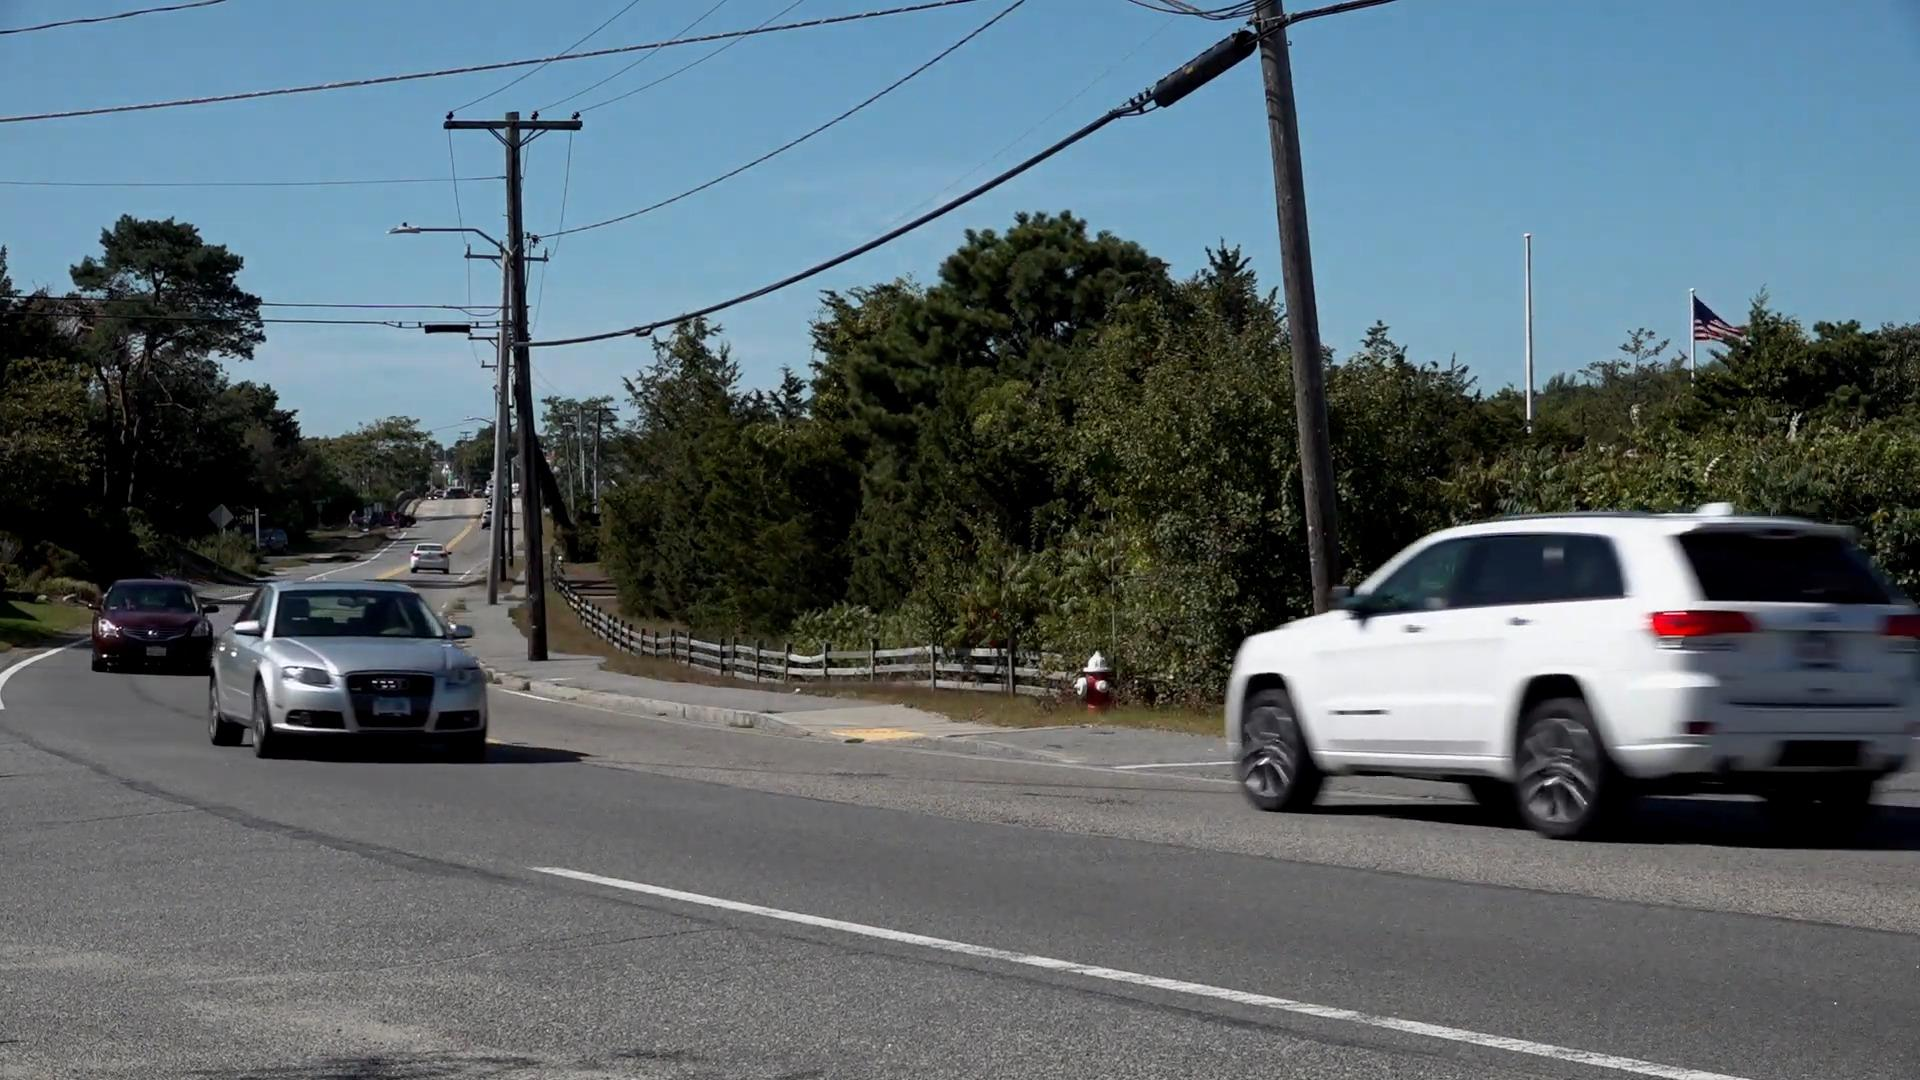sedans: (208, 583, 482, 763), (92, 575, 213, 673)
suv: (1223, 497, 1917, 832)
